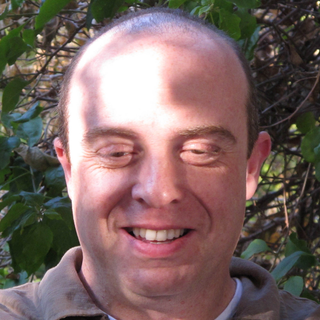eye: (93, 143, 143, 163), (176, 142, 221, 162)
